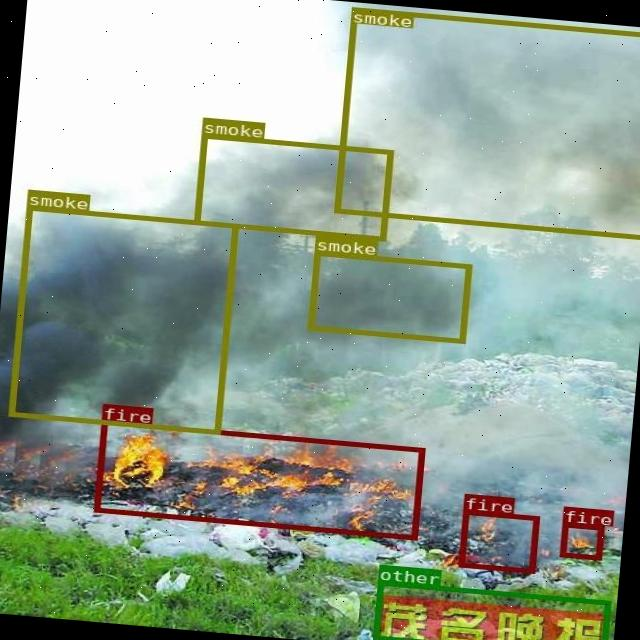fire: (92, 419, 424, 539), (457, 509, 539, 572), (558, 522, 602, 559)
smoke: (333, 7, 640, 238), (8, 205, 238, 434), (193, 133, 392, 239), (306, 250, 470, 342)
